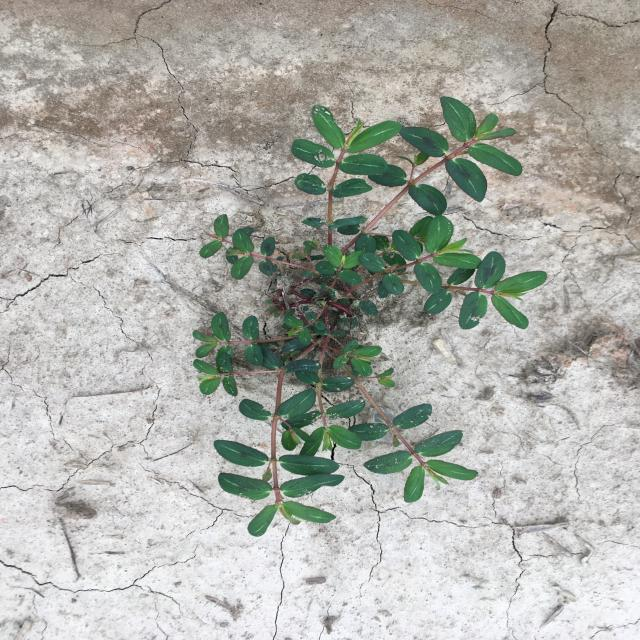SpottedSpurge: (193, 96, 548, 537)
